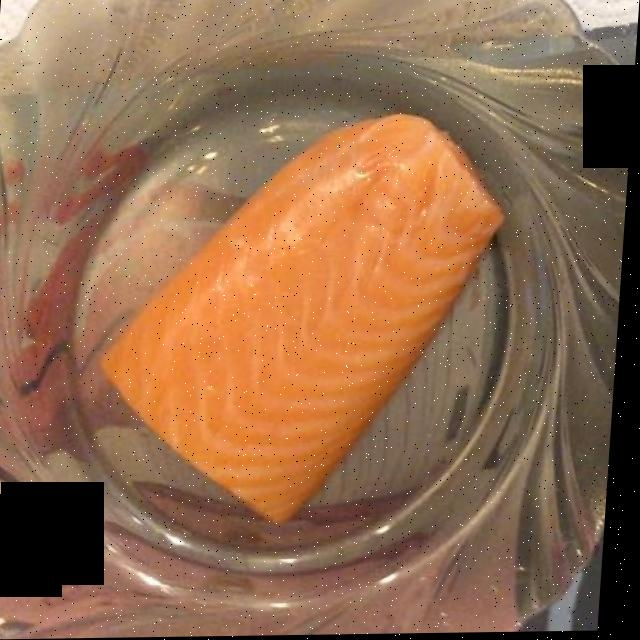salmon: (106, 117, 486, 514)
